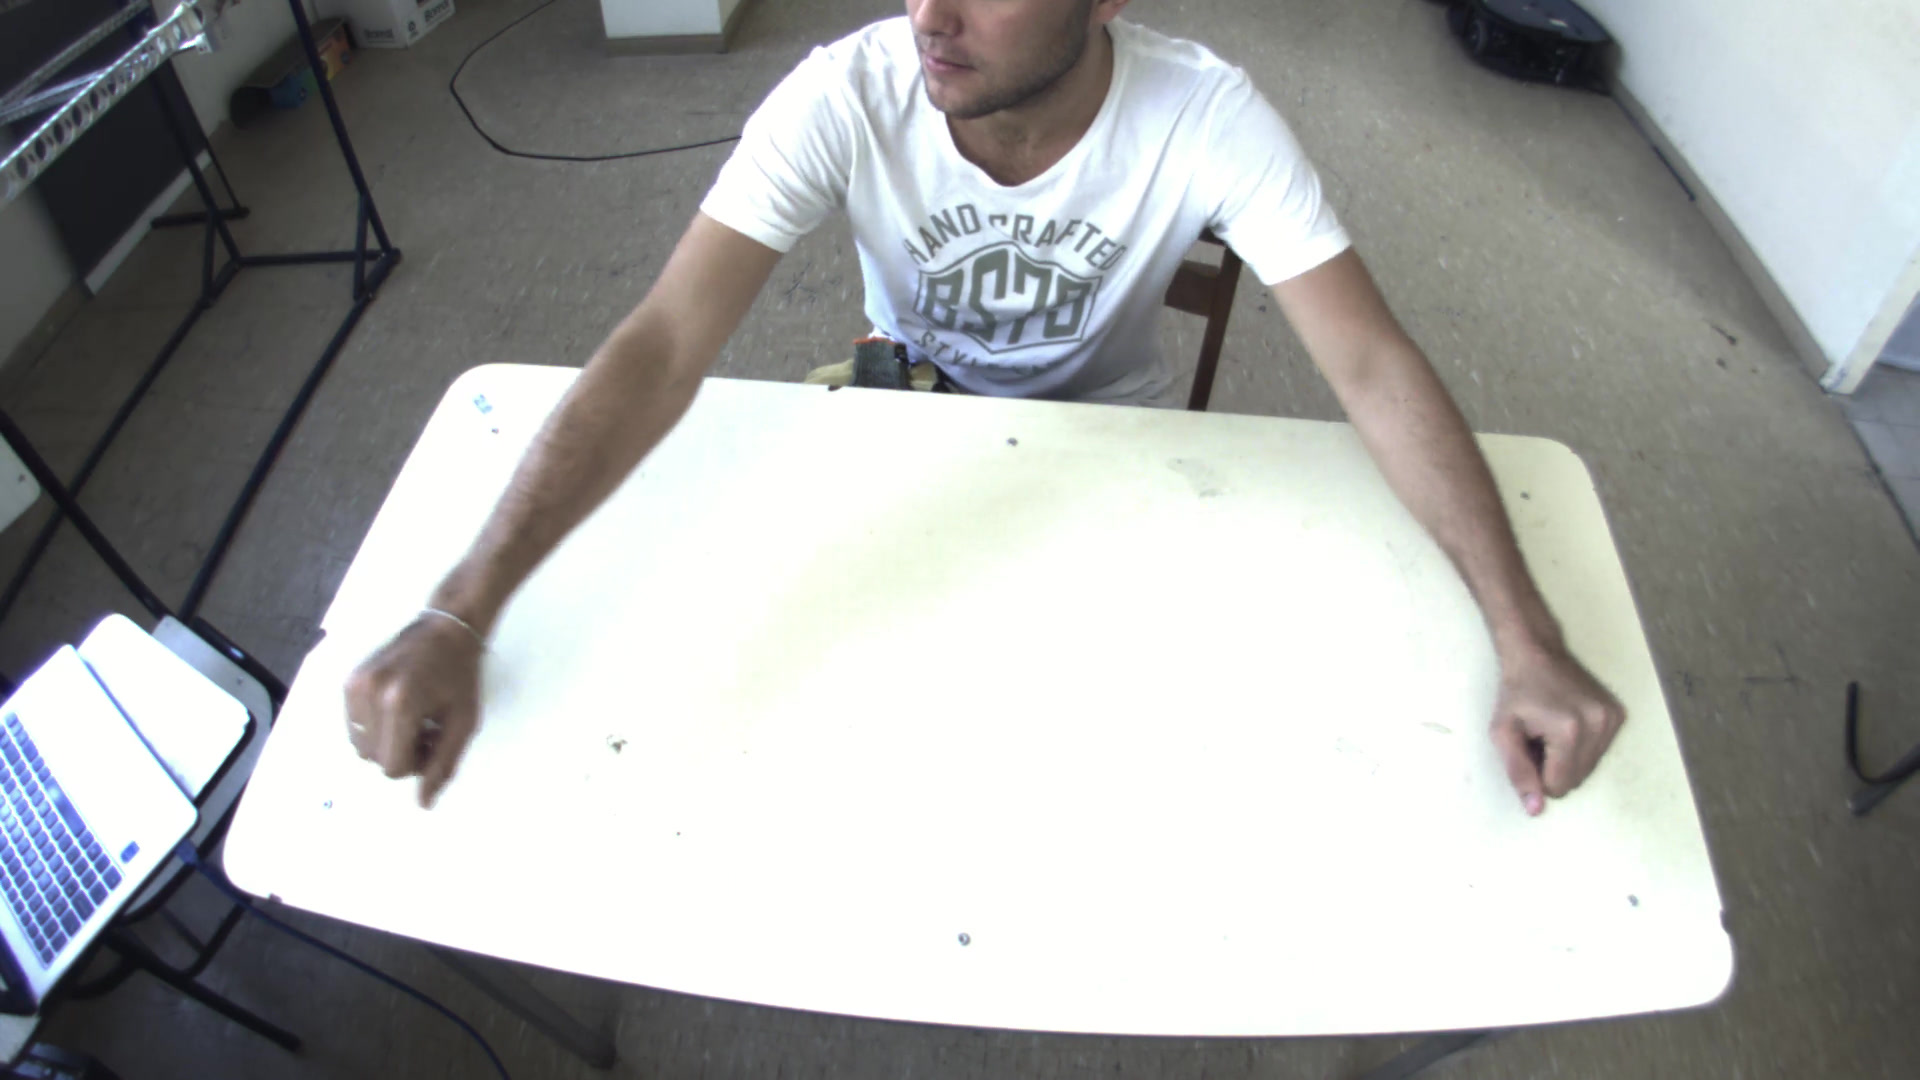hand: (331, 611, 491, 811), (1482, 638, 1633, 815)
